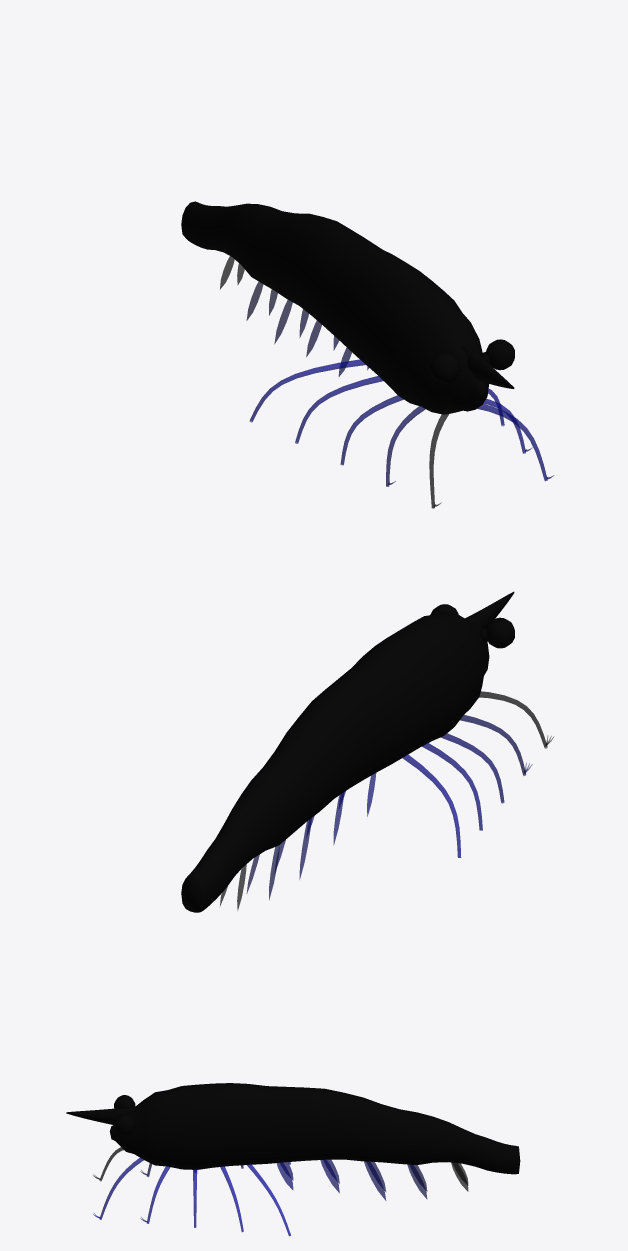
The model's file is peppermint-shrimp.glb.
The picture shows the model from 3 angles, top to bottom: view 1: azimuth 30°, elevation 25°; view 2: azimuth 150°, elevation 25°; view 3: azimuth 270°, elevation 25°; orthographic projection. The views are drawn at different scales.
Parts seen in each view (by area): view 1: peppermint_body, peppermint_rostrum, peppermint_eyeR, peppermint_eyeL, peppermint_leg4L; view 2: peppermint_body, peppermint_eyeL, peppermint_leg4L, peppermint_rostrum, peppermint_leg3L; view 3: peppermint_body, peppermint_rostrum, peppermint_eyeR.
Boxes of the visible parts, box(x1,y1,x2,y2) form: peppermint_body: box(181, 201, 488, 414); peppermint_rostrum: box(461, 344, 514, 388); peppermint_eyeR: box(479, 339, 514, 370); peppermint_eyeL: box(430, 353, 462, 383); peppermint_leg4L: box(249, 359, 365, 422); peppermint_body: box(181, 611, 489, 912); peppermint_eyeL: box(479, 617, 514, 648); peppermint_leg4L: box(402, 754, 461, 857); peppermint_rostrum: box(465, 591, 514, 629); peppermint_leg3L: box(422, 743, 482, 830); peppermint_body: box(109, 1083, 520, 1174); peppermint_rostrum: box(66, 1106, 135, 1124); peppermint_eyeR: box(114, 1114, 135, 1135).
Size of the model in its own units: 0.5218 by 0.4138 by 1.33.
